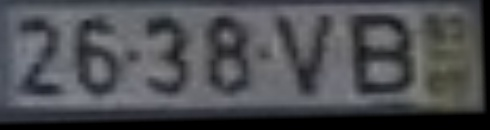2: (12, 14, 69, 104)
3: (139, 12, 196, 102)
6: (69, 12, 128, 101)
8: (200, 12, 260, 100)
B: (347, 13, 421, 102)
V: (268, 12, 342, 103)
